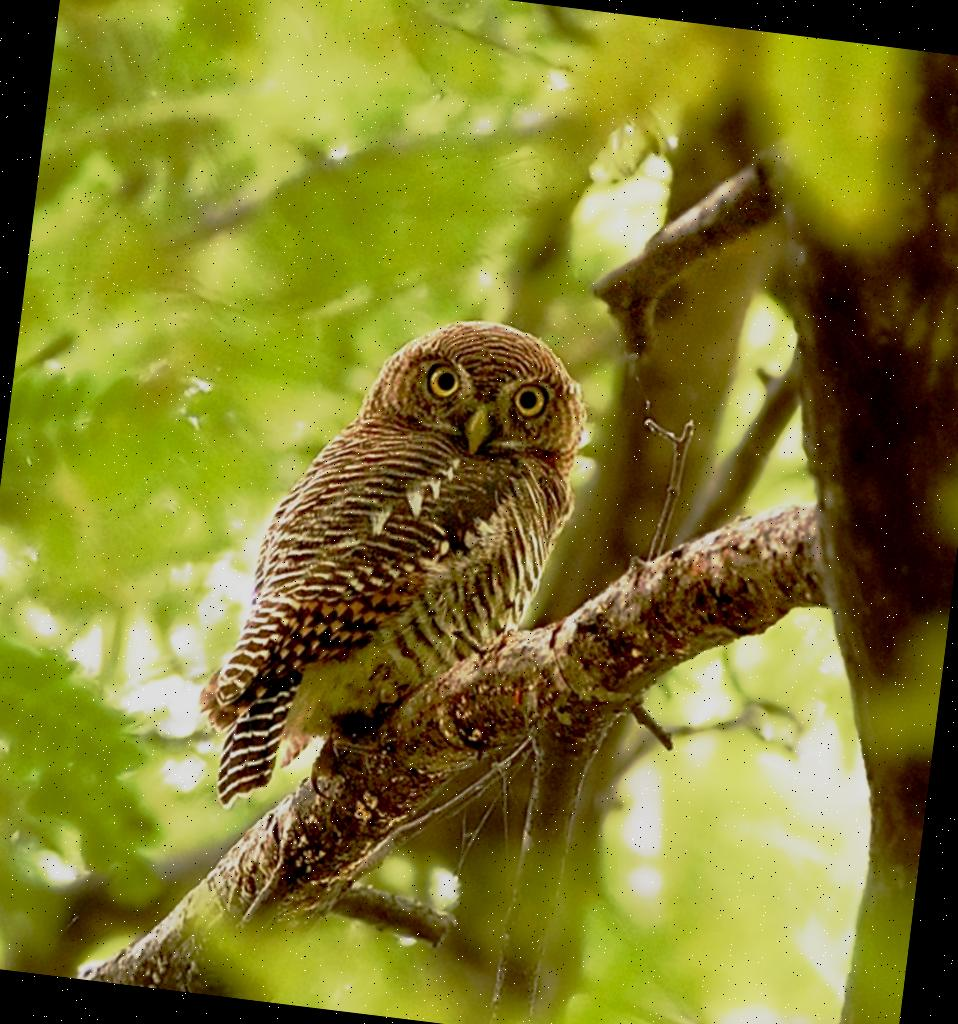Owl: (184, 292, 625, 867)
